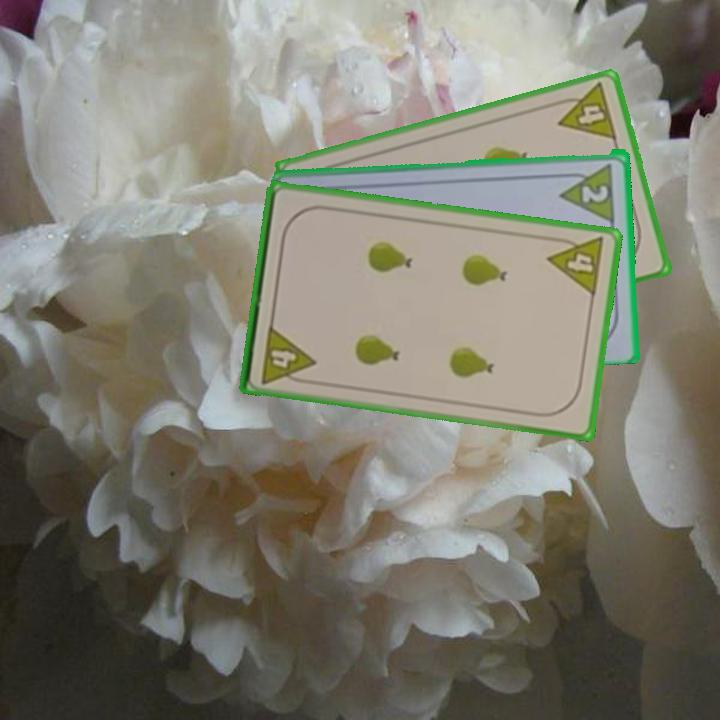2p: (578, 179, 612, 205)
4p: (549, 79, 620, 143), (544, 232, 608, 299), (258, 321, 318, 387)
